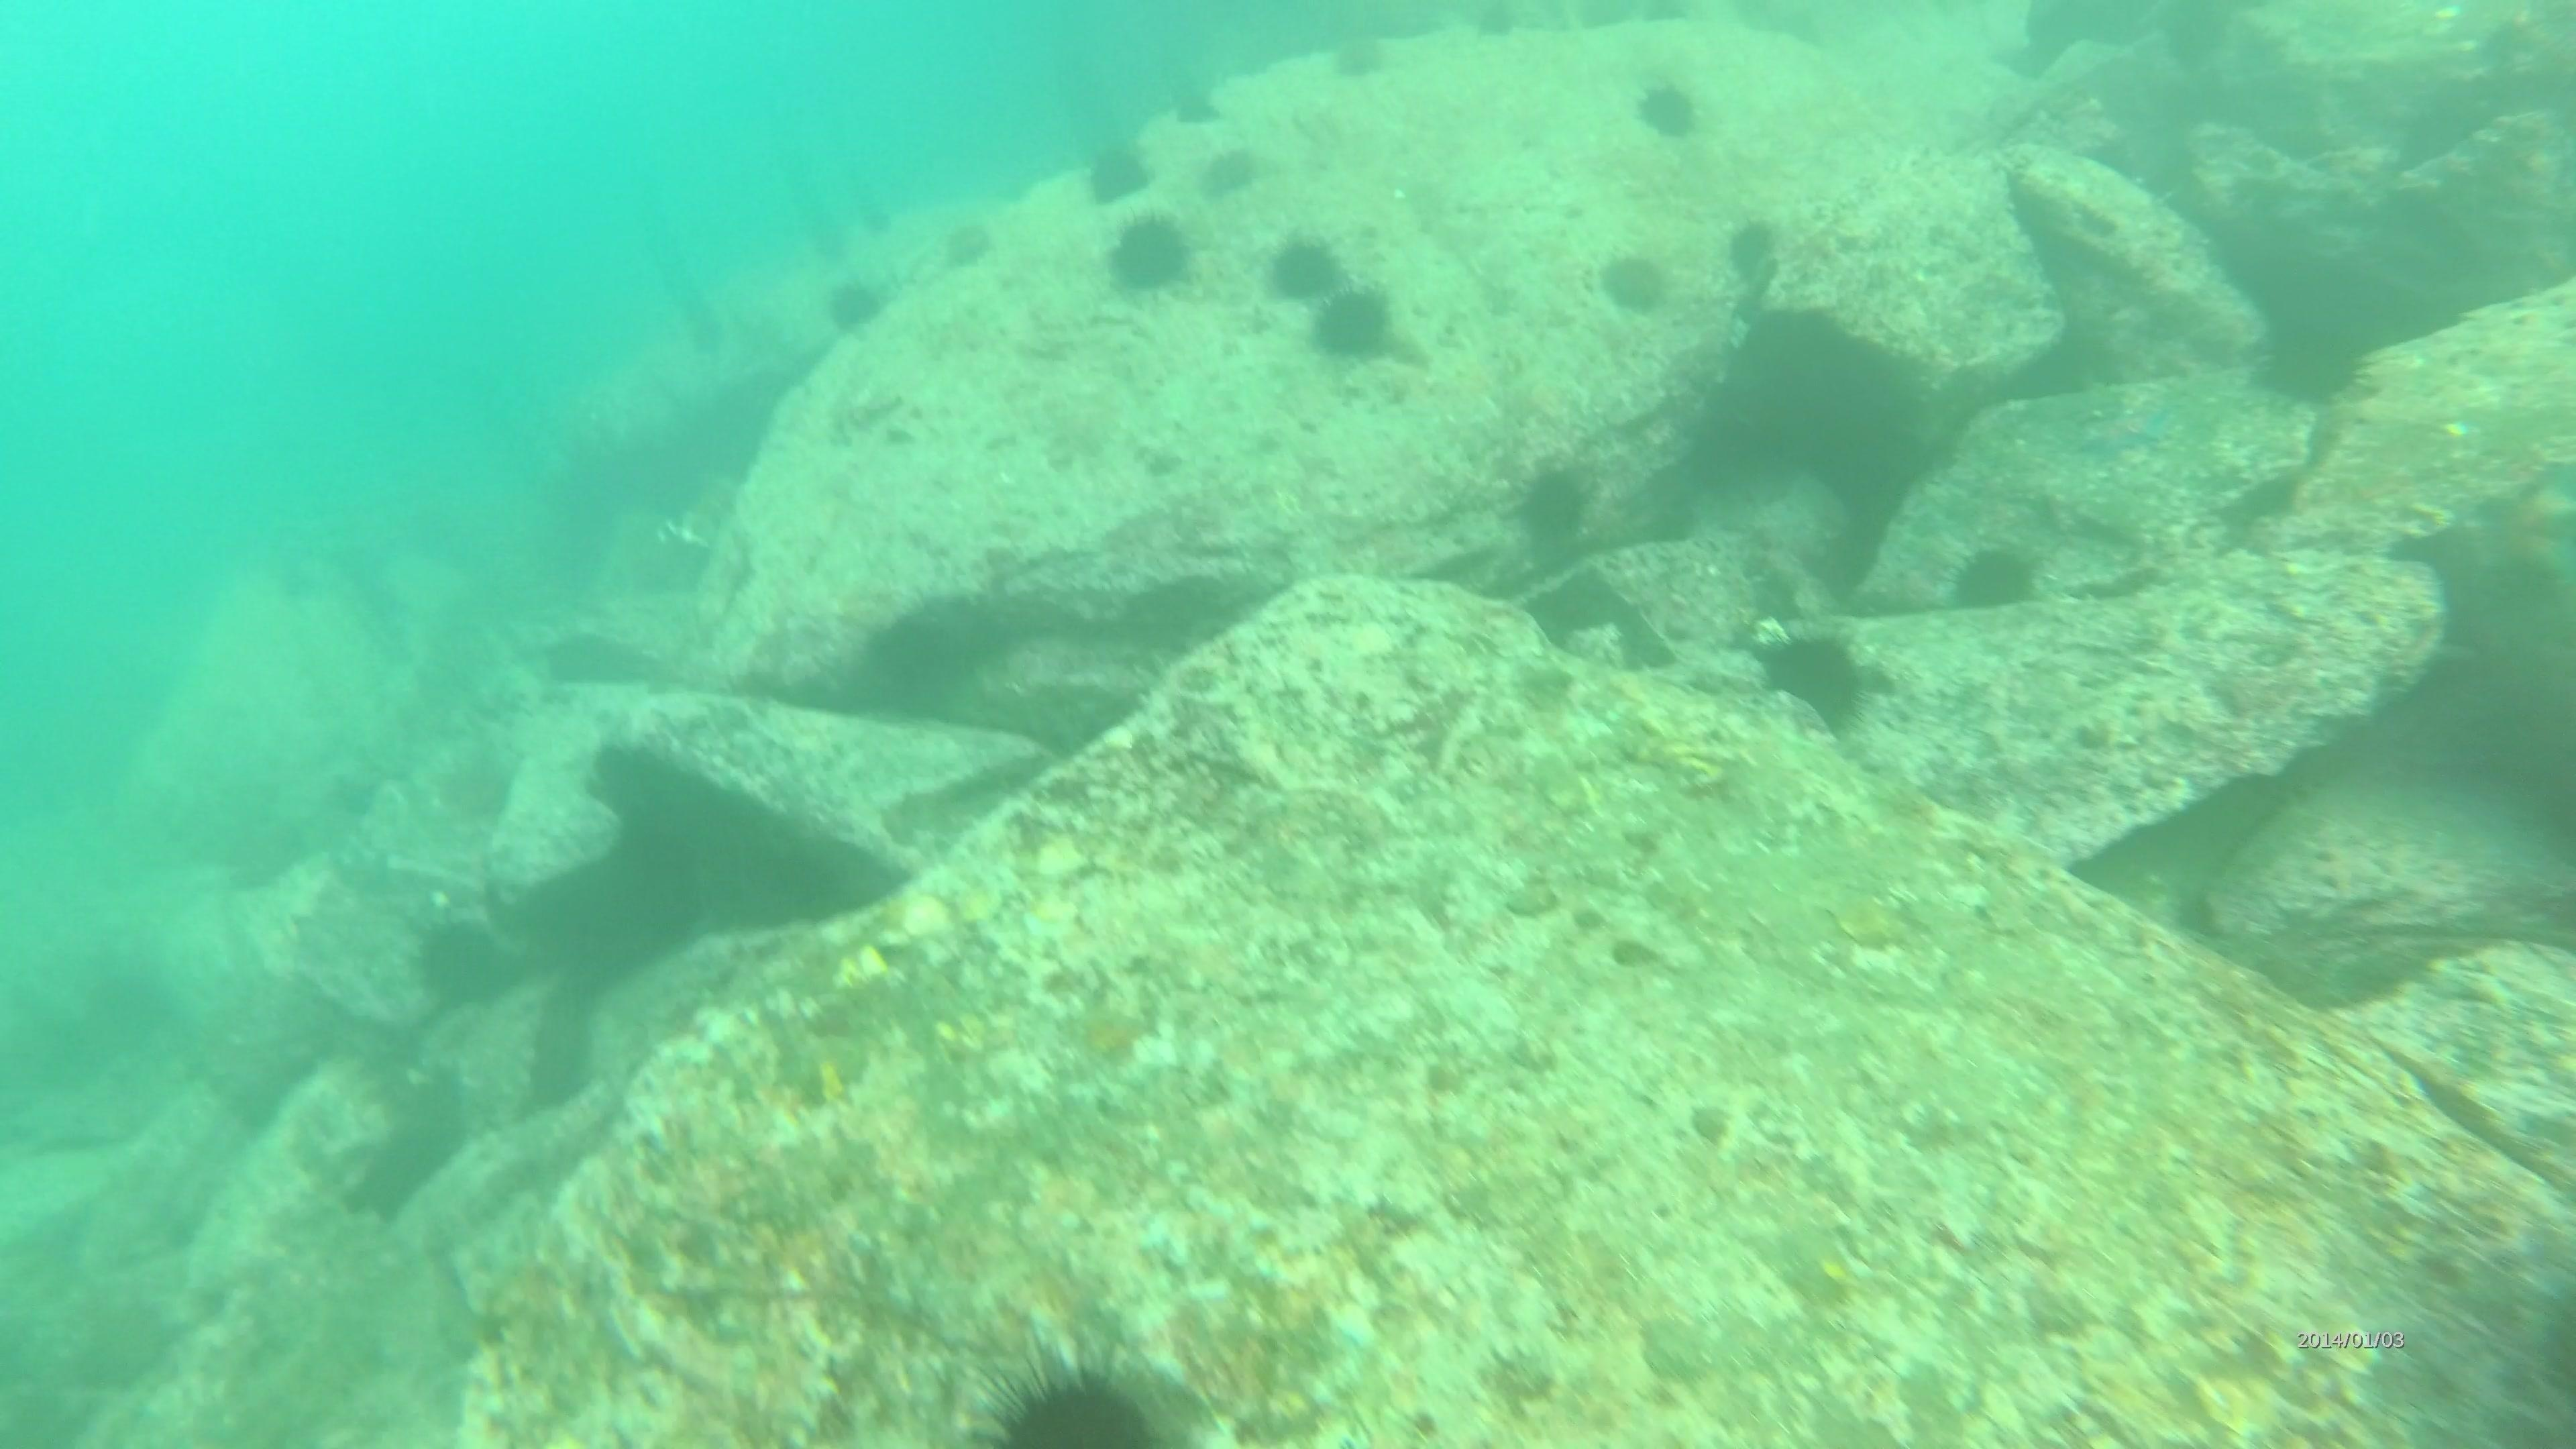echinus: (959, 1343, 1187, 1445), (1750, 621, 1879, 736), (2249, 306, 2378, 410), (407, 908, 518, 1016), (1507, 453, 1603, 559), (1100, 209, 1200, 303), (1943, 536, 2049, 621), (580, 731, 674, 824), (1306, 281, 1399, 368), (1263, 228, 1350, 308), (1594, 244, 1675, 322), (1077, 134, 1155, 209), (1629, 73, 1707, 145), (1720, 211, 1787, 294), (1320, 25, 1396, 87), (821, 272, 890, 340), (1196, 140, 1265, 203), (1161, 74, 1226, 131), (938, 214, 996, 274)
starfish: (2466, 462, 2576, 598), (2068, 375, 2187, 467)
